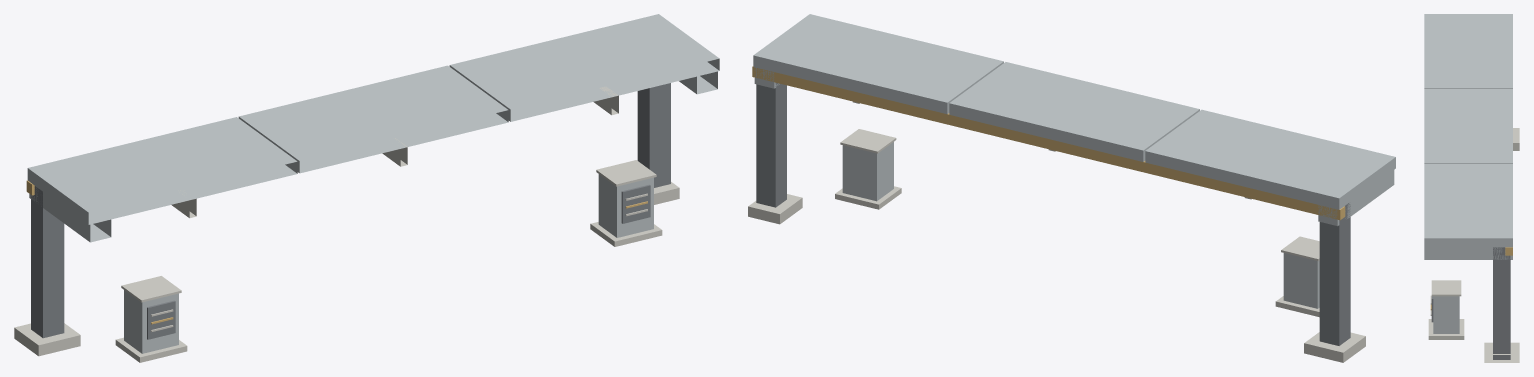
Rendered from lunar-0-0.glb.
3 renders of one model, left to right at view 1: azimuth 30°, elevation 25°; view 2: azimuth 150°, elevation 25°; view 3: azimuth 270°, elevation 25°, orthographic. The views are drawn at different scales.
Parts seen in each view (by area): view 1: lunar-0-0; view 2: lunar-0-0; view 3: lunar-0-0.
Part boxes in pixels (left/top/right/bottom): lunar-0-0: left=14, top=14, right=719, bottom=362; lunar-0-0: left=748, top=14, right=1395, bottom=362; lunar-0-0: left=1424, top=14, right=1519, bottom=362.
Size of the model in its own units: 48.6 by 12.44 by 8.6.
